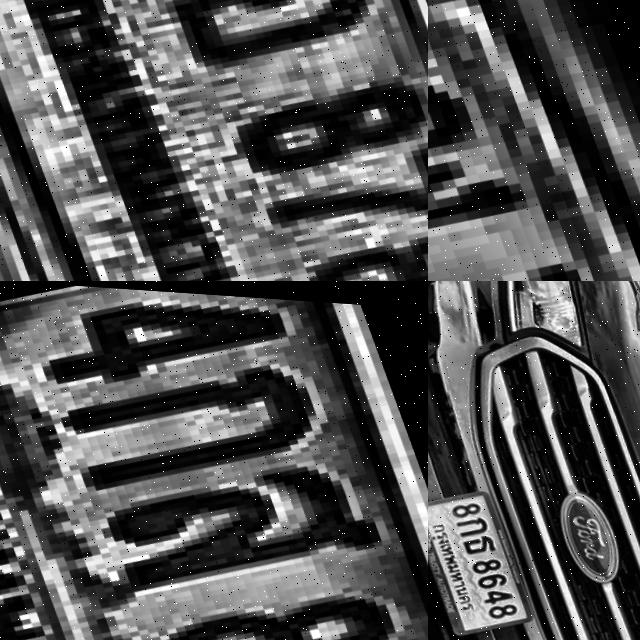license-plate: (0, 281, 428, 640), (0, 0, 428, 281), (428, 0, 640, 281), (428, 476, 535, 640)
